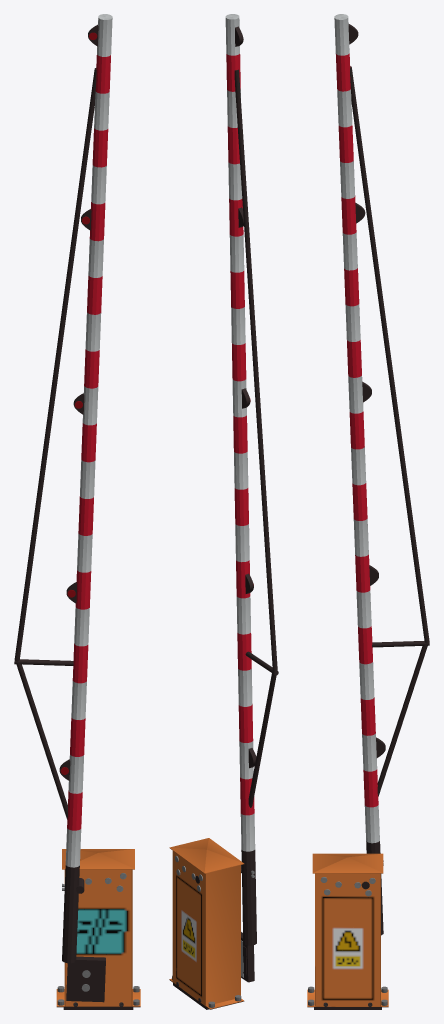
The model's file is rhr-95_5m_prawo.obj.
3 views of the same model, side by side, from view 1: azimuth 90°, elevation 25°; view 2: azimuth 210°, elevation 25°; view 3: azimuth 270°, elevation 25° (orthographic). The views are drawn at different scales.
Parts seen in each view (by area): view 1: drag, cuboid; view 2: drag, cuboid; view 3: drag, cuboid.
Boxes of the visible parts, x1,y1,x2,y2 form: drag: [14, 14, 112, 1002]; cuboid: [56, 849, 140, 1009]; drag: [195, 14, 278, 982]; cuboid: [169, 838, 244, 1009]; drag: [334, 14, 429, 935]; cuboid: [307, 853, 388, 1009].
Bounding box in the file's own units: 0.4022 × 6.78 × 0.775.
